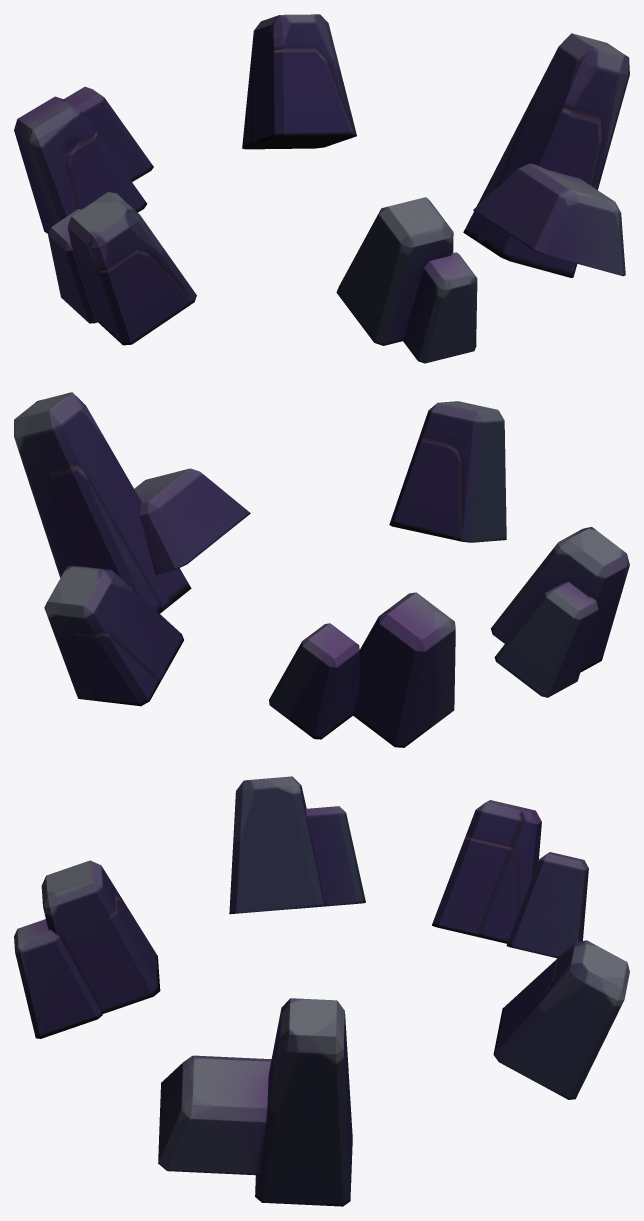
Rendered from Ore_Squished_C.fbx.
The picture shows the model from 3 angles, top to bottom: view 1: azimuth 30°, elevation 25°; view 2: azimuth 150°, elevation 25°; view 3: azimuth 270°, elevation 25°; orthographic projection. The views are drawn at different scales.
Visible parts, largest first — view 1: Ore_Squished_C; view 2: Ore_Squished_C; view 3: Ore_Squished_C.
Part boxes in pixels (box(x1,y1,x2,y2)): Ore_Squished_C: box(14, 14, 629, 363); Ore_Squished_C: box(14, 392, 629, 747); Ore_Squished_C: box(14, 776, 629, 1206).
Size of the model in its own units: 1.02 by 0.3744 by 0.9281.
